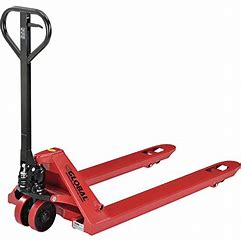Pallet Jack: (1, 6, 241, 238)
